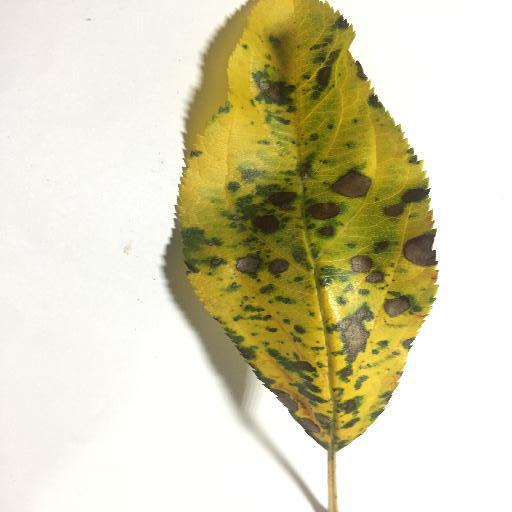Brown_Spot: (334, 317, 366, 357), (400, 241, 448, 264), (379, 299, 423, 316), (327, 182, 375, 197), (260, 81, 288, 105), (303, 203, 341, 217), (279, 389, 300, 414), (233, 256, 260, 274), (254, 216, 278, 234), (313, 62, 333, 83), (404, 188, 431, 203), (267, 194, 296, 205), (301, 418, 318, 436), (350, 259, 373, 271), (298, 362, 319, 374), (337, 400, 358, 412), (269, 260, 288, 272), (388, 202, 405, 215), (368, 270, 383, 282), (320, 224, 337, 234)
